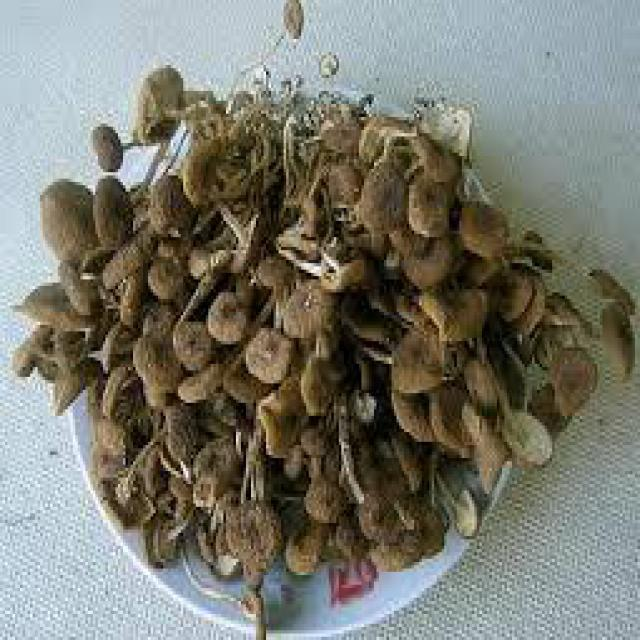Agrocybe aegerita: (25, 65, 639, 591)
